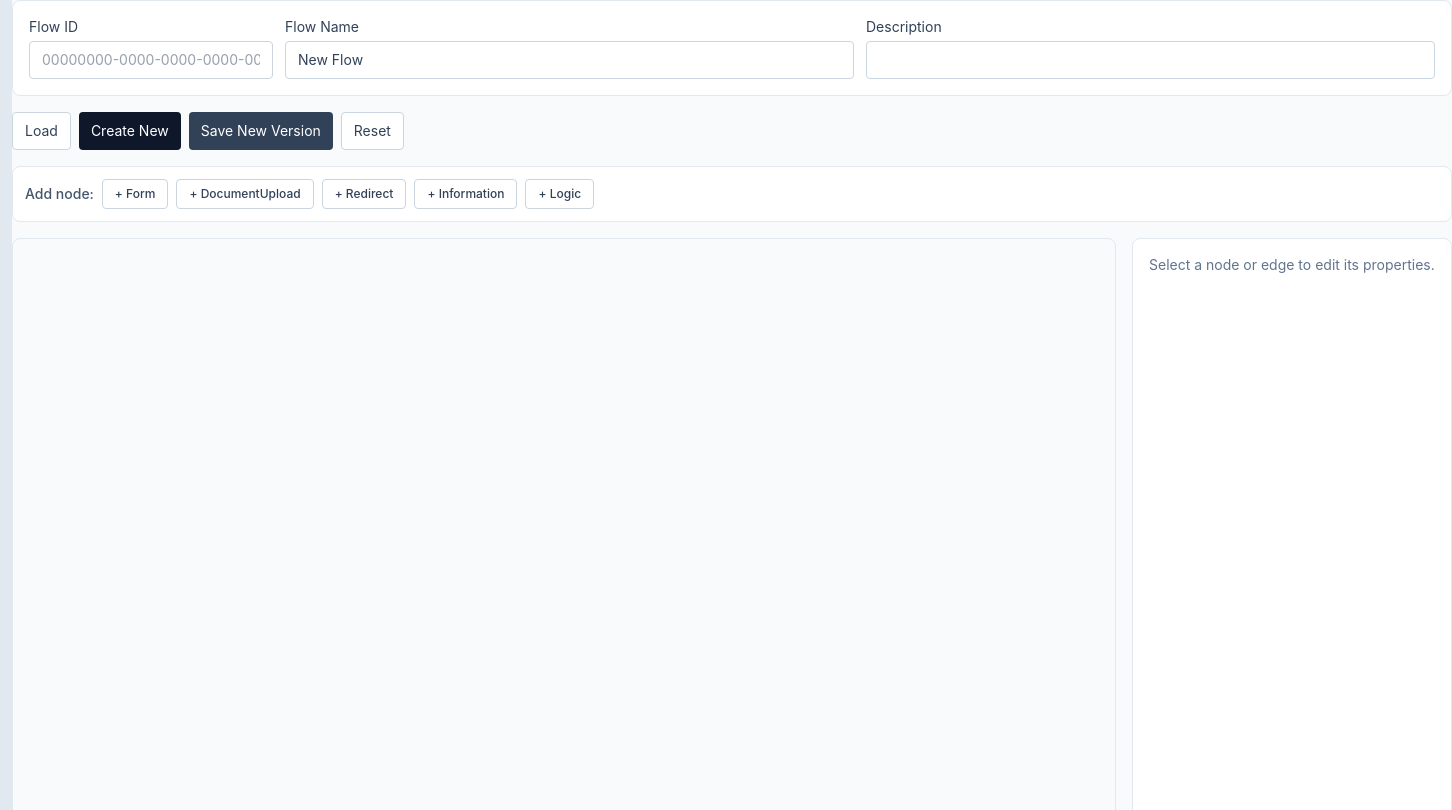
Test case: VisualJourneyBuilder › resets state when Reset is clicked
The image size is (1452, 810).
Replace the text in the field showing "New Flow" with "Modified Flow" at (570, 60), box [285, 41, 854, 79]
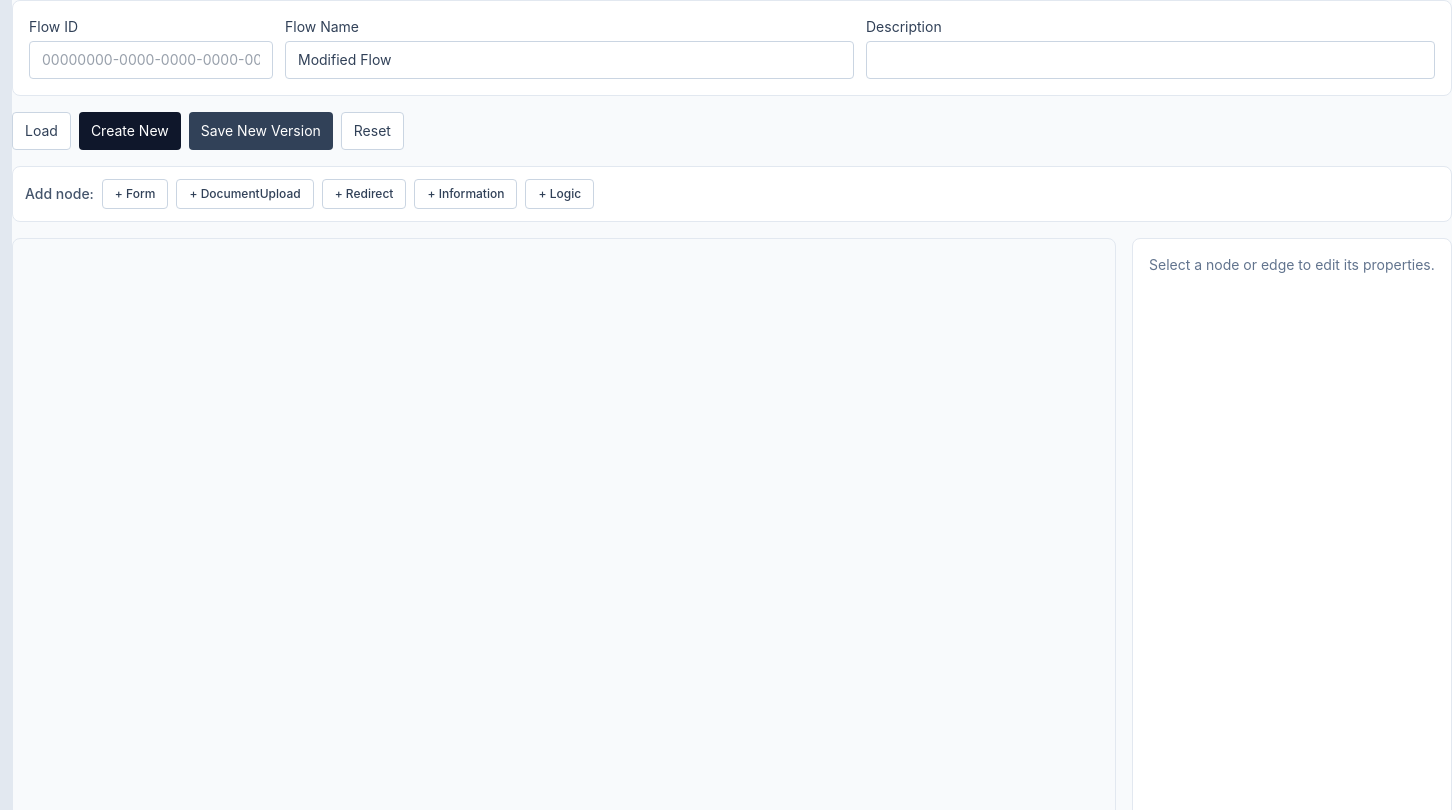
Click the button "Reset" at (372, 131), box [341, 112, 404, 150]
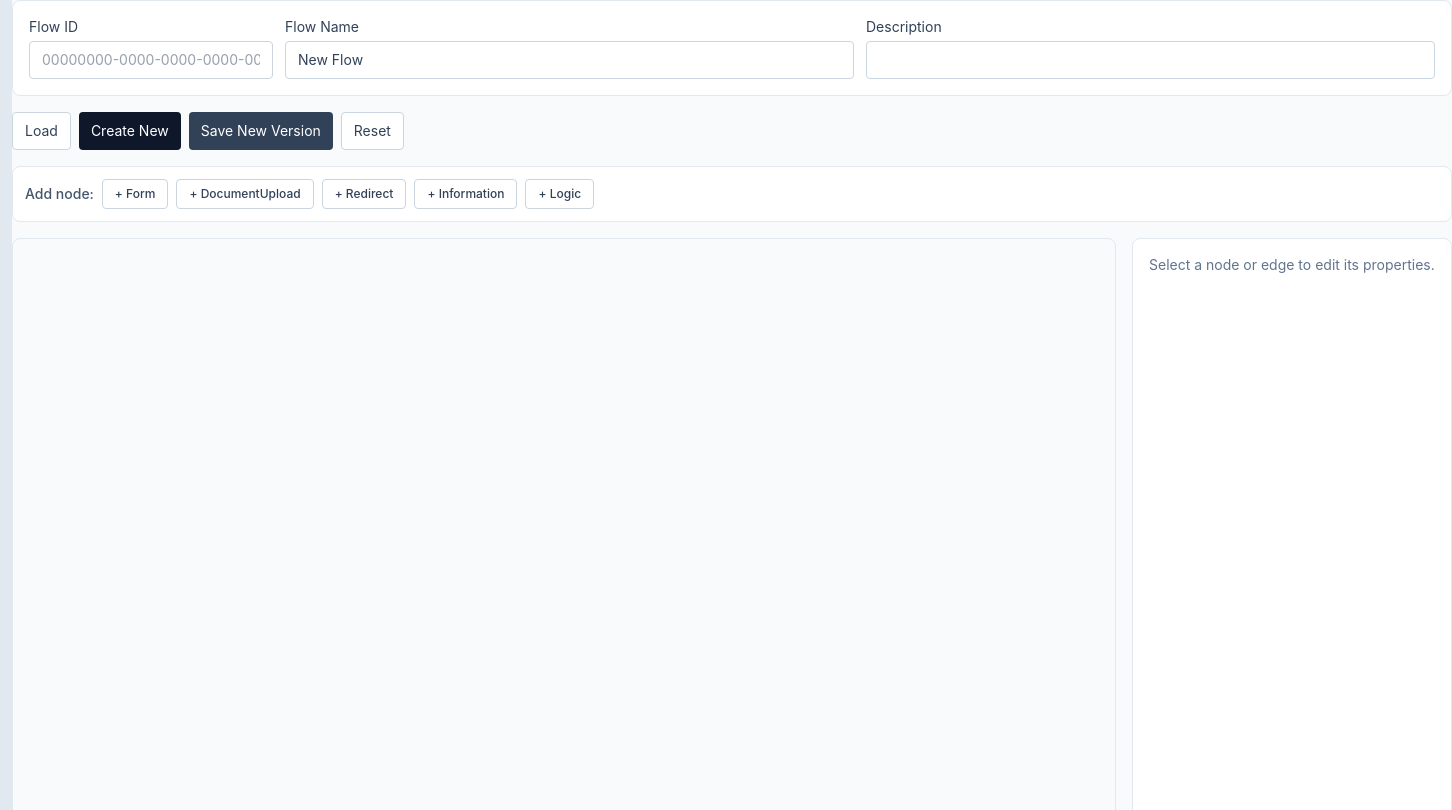
Expected: the field showing "New Flow" is shown, [285, 41, 854, 79]
